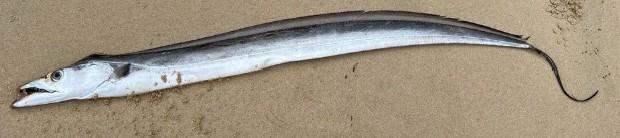fish: (12, 10, 597, 106)
